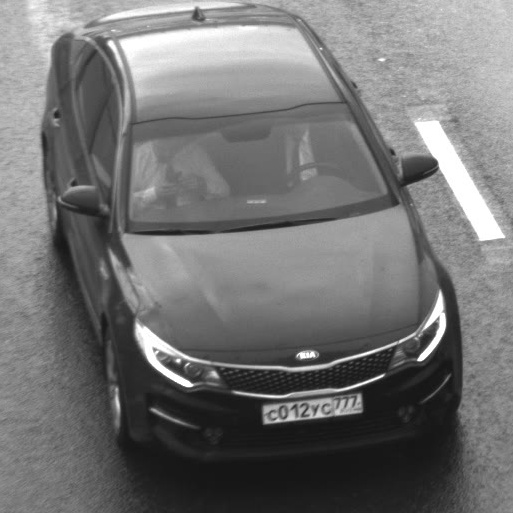plate: (251, 382, 372, 432)
